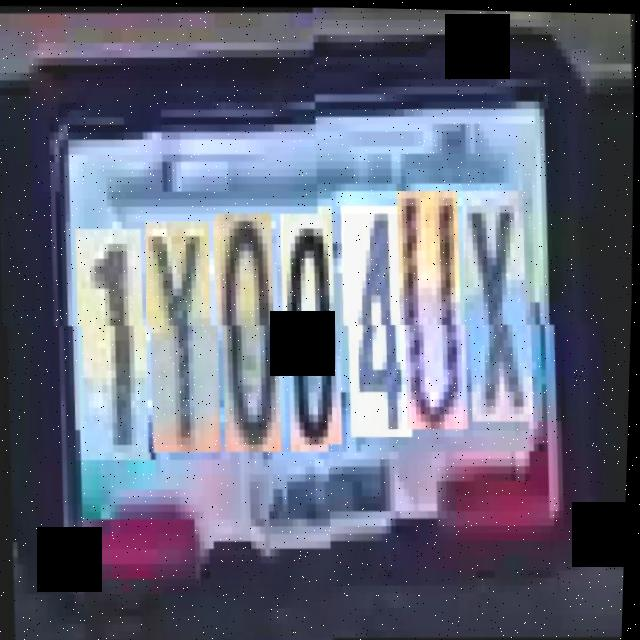1: (74, 226, 155, 461)
4: (340, 211, 416, 444)
O: (214, 211, 285, 452), (279, 211, 346, 451)
U: (396, 196, 472, 436)
X: (461, 194, 537, 428)
Y: (143, 218, 224, 453)
